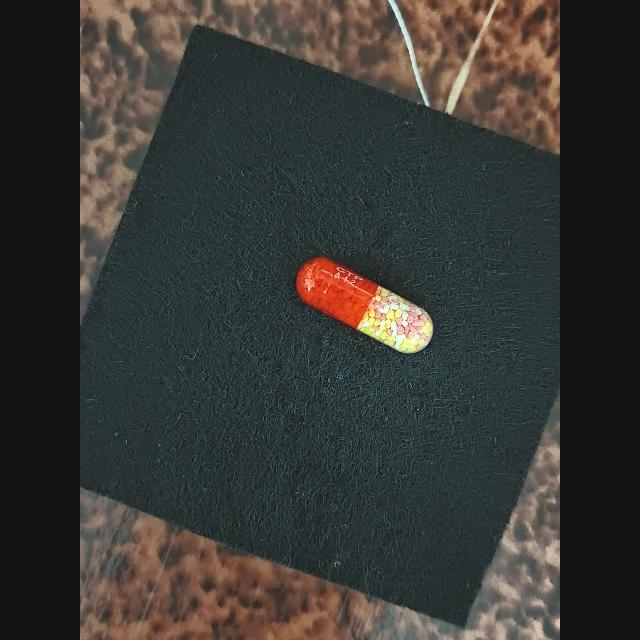Intact Capsule: (296, 257, 434, 353)
